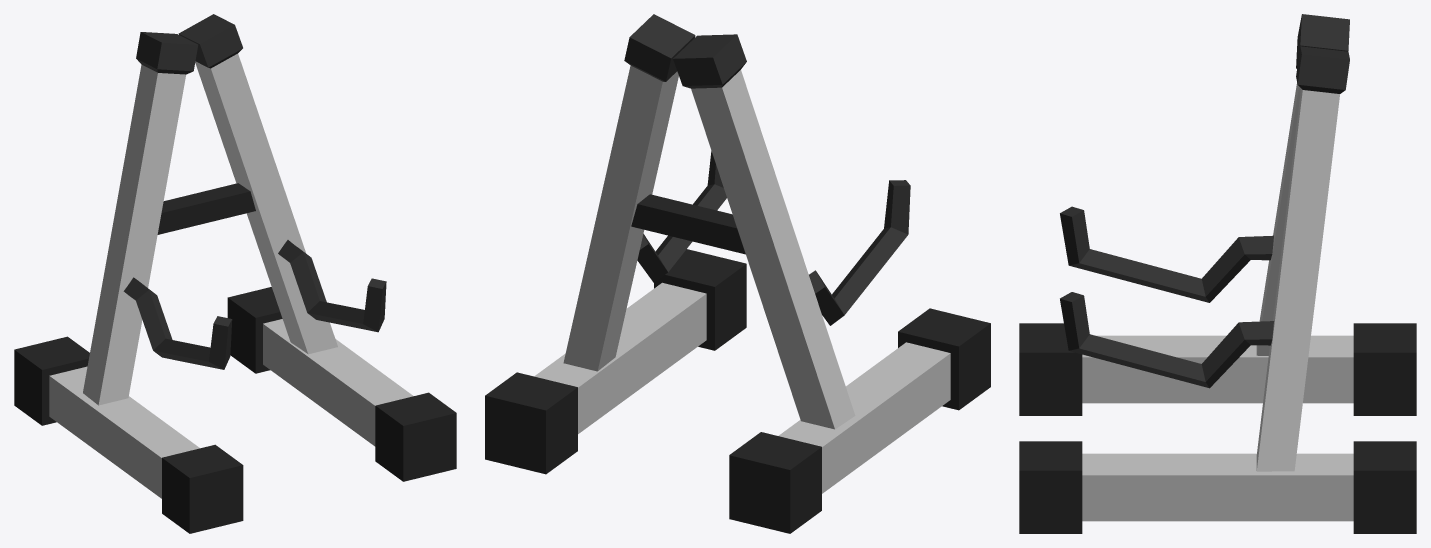
Rendered from kedan.fbx.
3 renders of one model, left to right at view 1: azimuth 30°, elevation 25°; view 2: azimuth 150°, elevation 25°; view 3: azimuth 270°, elevation 25°, orthographic. The views are drawn at different scales.
Parts seen in each view (by area): view 1: kedan; view 2: kedan; view 3: kedan.
Boxes of the visible parts, x1,y1,x2,y2 form: kedan: [14, 14, 456, 533]; kedan: [485, 14, 990, 533]; kedan: [1019, 14, 1416, 533].
Bounding box in the file's own units: 107 × 144 × 122.
